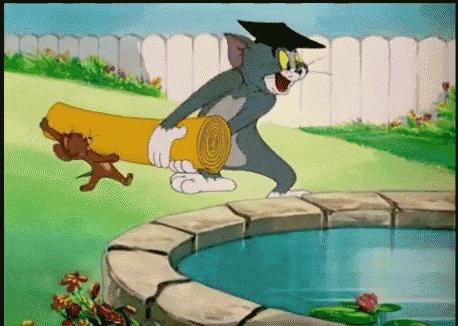jerry: (38, 115, 135, 193)
